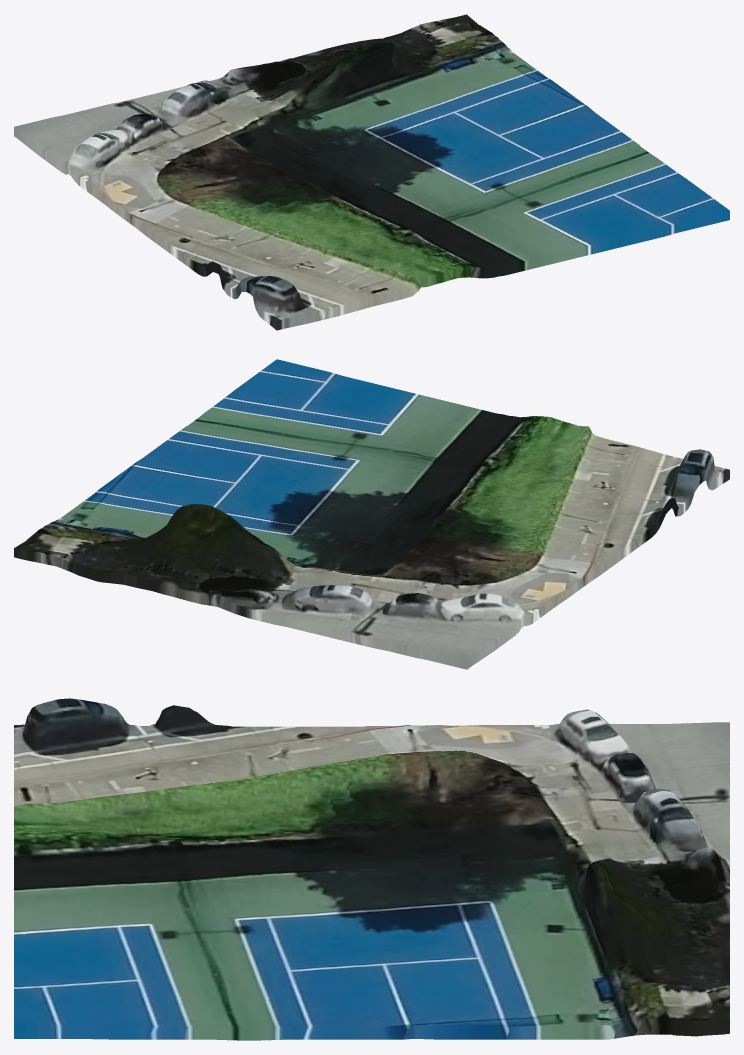
Rendered from z20-167781-405216-h0-yup-uvflip-v3-world.glb.
The picture shows the model from 3 angles, top to bottom: view 1: azimuth 30°, elevation 25°; view 2: azimuth 150°, elevation 25°; view 3: azimuth 270°, elevation 25°; orthographic projection. The views are drawn at different scales.
Bounding box in the file's own units: 30.16 × 3.6 × 30.32.
1 material, 1 textured.
